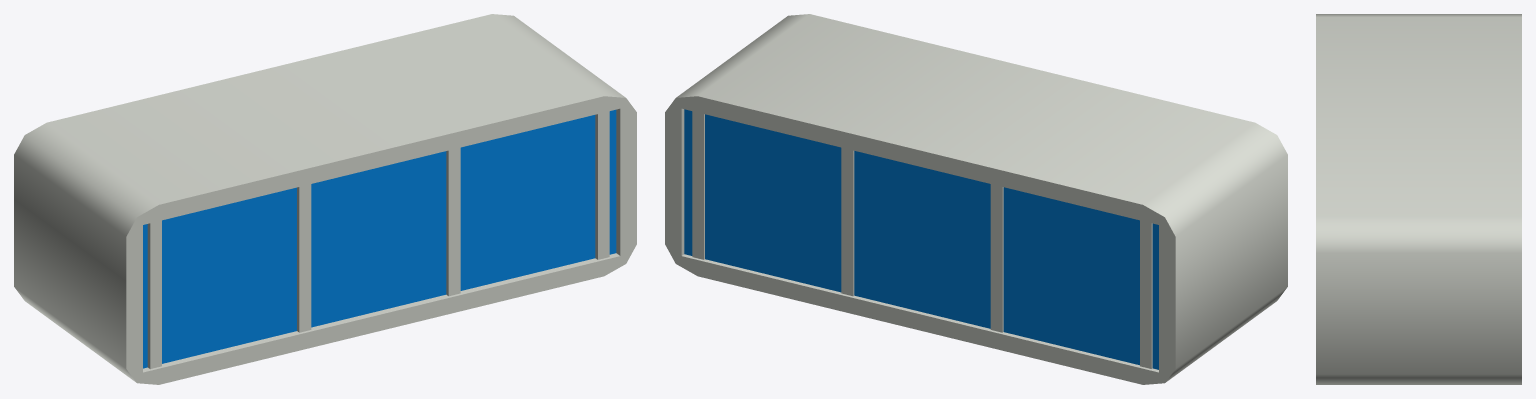
File: House.fbx
3 views of the same model, side by side, from view 1: azimuth 30°, elevation 25°; view 2: azimuth 150°, elevation 25°; view 3: azimuth 270°, elevation 25° (orthographic). The views are drawn at different scales.
Parts seen in each view (by area): view 1: Cube; view 2: Cube; view 3: Cube.
Boxes of the visible parts, x1=… form: Cube: x1=14, y1=14, x2=636, y2=384; Cube: x1=665, y1=14, x2=1287, y2=384; Cube: x1=1316, y1=14, x2=1521, y2=384.
Bounding box in the file's own units: 1197 × 403 × 456.
